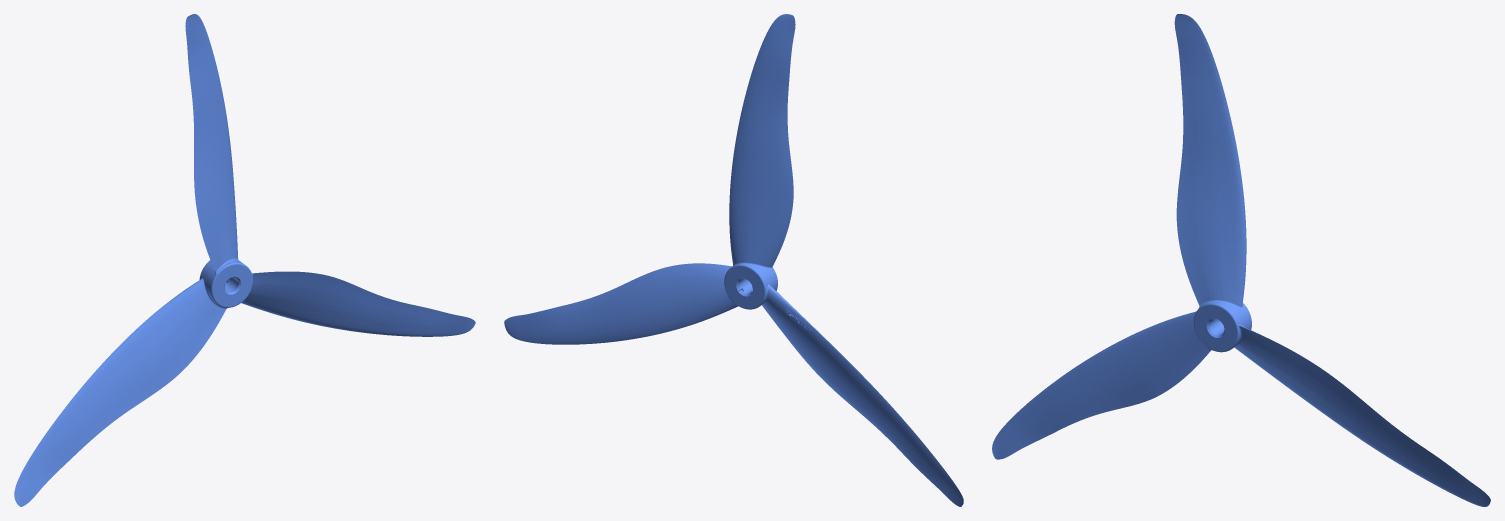
The model's file is amovlab_prop_rear_left.obj.
3 views of the same model, side by side, from view 1: azimuth 30°, elevation 25°; view 2: azimuth 150°, elevation 25°; view 3: azimuth 330°, elevation 25° (orthographic). The views are drawn at different scales.
Parts seen in each view (by area): view 1: PropellerBlue; view 2: PropellerBlue; view 3: PropellerBlue.
Part boxes in pixels (box(x1,y1,x2,y2)): PropellerBlue: box(14, 14, 475, 506); PropellerBlue: box(504, 14, 963, 506); PropellerBlue: box(992, 14, 1490, 506).
Size of the model in its own units: 0.2385 by 0.2232 by 0.0125.
